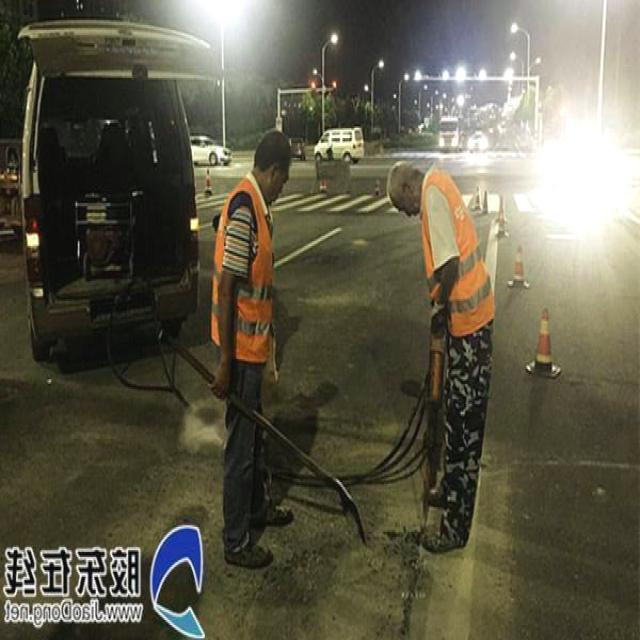face_nomask: (396, 180, 422, 234), (263, 161, 288, 208)
hand_glove: (418, 296, 444, 344)
hand_noglove: (205, 348, 231, 408)
head_nohelmet: (258, 124, 302, 154), (381, 160, 400, 210)
person: (387, 163, 496, 542), (212, 135, 294, 565)
shoes: (222, 524, 274, 576), (420, 510, 470, 558), (251, 495, 291, 531)
vest: (424, 166, 489, 338), (213, 190, 273, 354)
